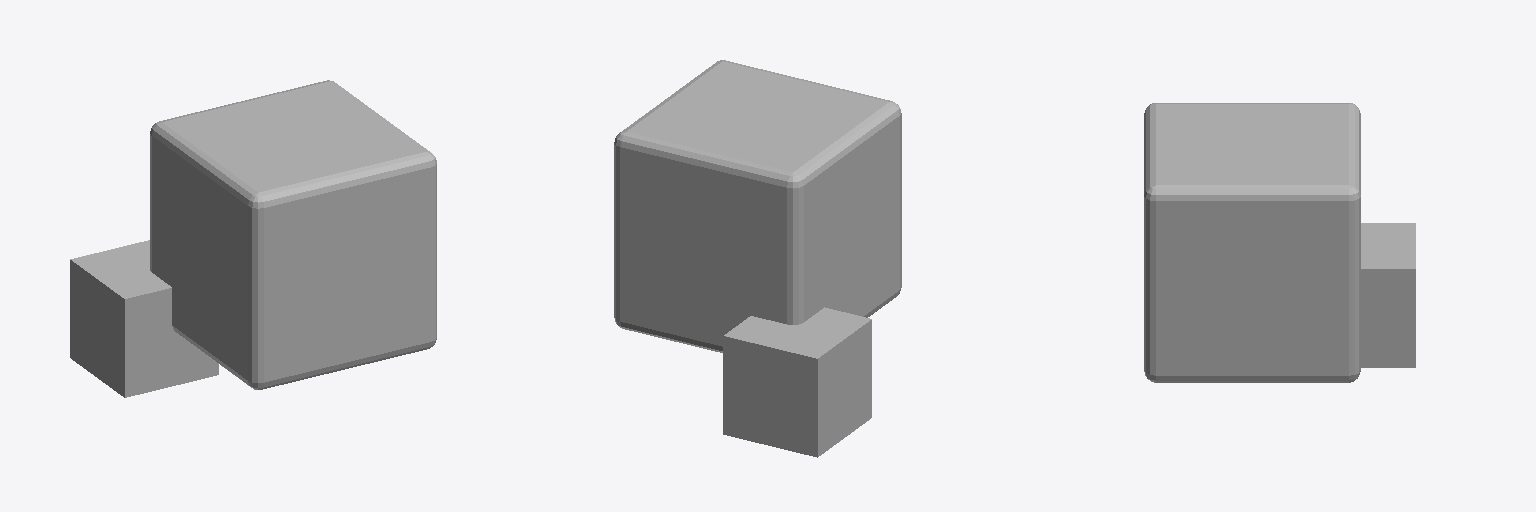
File: rubik_corner.obj
3 views of the same model, side by side, from view 1: azimuth 30°, elevation 25°; view 2: azimuth 150°, elevation 25°; view 3: azimuth 270°, elevation 25° (orthographic).
Bounding box in the file's own units: 2.25 × 2.25 × 2.25.